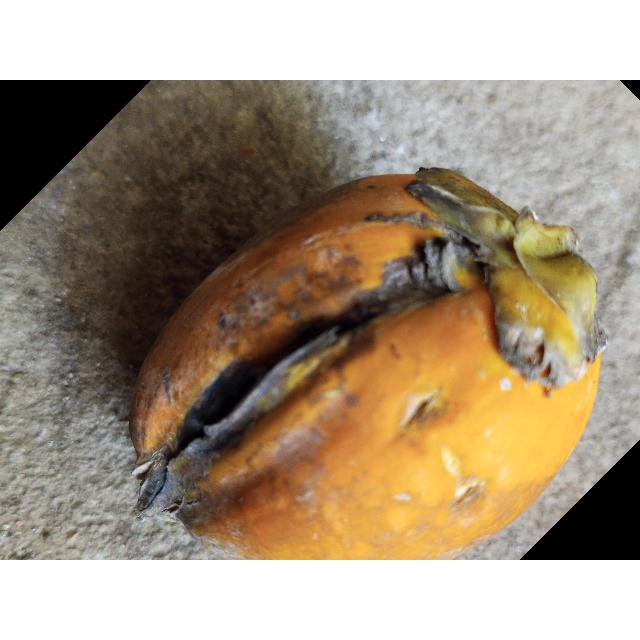damaged: (130, 168, 605, 560)
